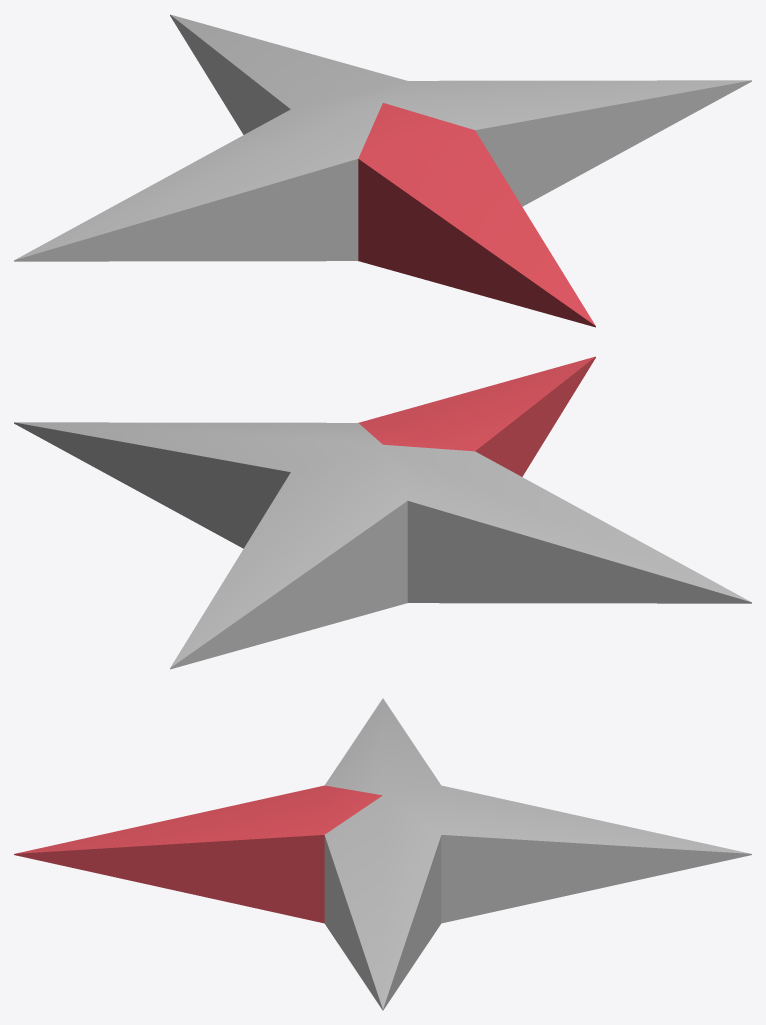
The model's file is compass.glb.
3 renders of one model, top to bottom at view 1: azimuth 30°, elevation 25°; view 2: azimuth 150°, elevation 25°; view 3: azimuth 270°, elevation 25°, orthographic. The views are drawn at different scales.
Parts seen in each view (by area): view 1: Cube; view 2: Cube; view 3: Cube.
Part boxes in pixels (x1,y1,x2,y2): Cube: (14,14,751,327); Cube: (14,356,751,669); Cube: (14,698,751,1010).
Size of the model in its own units: 1.41 by 0.25 by 1.41.
